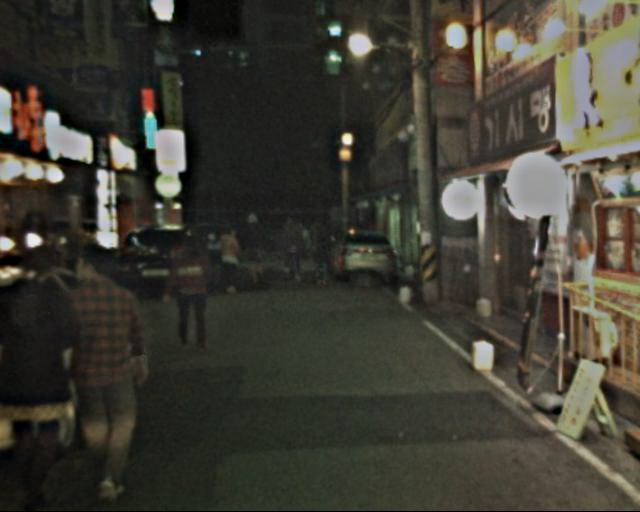person: (56, 250, 158, 496), (171, 232, 217, 344), (214, 223, 247, 294), (238, 214, 269, 285), (308, 223, 339, 291), (278, 219, 306, 288)
